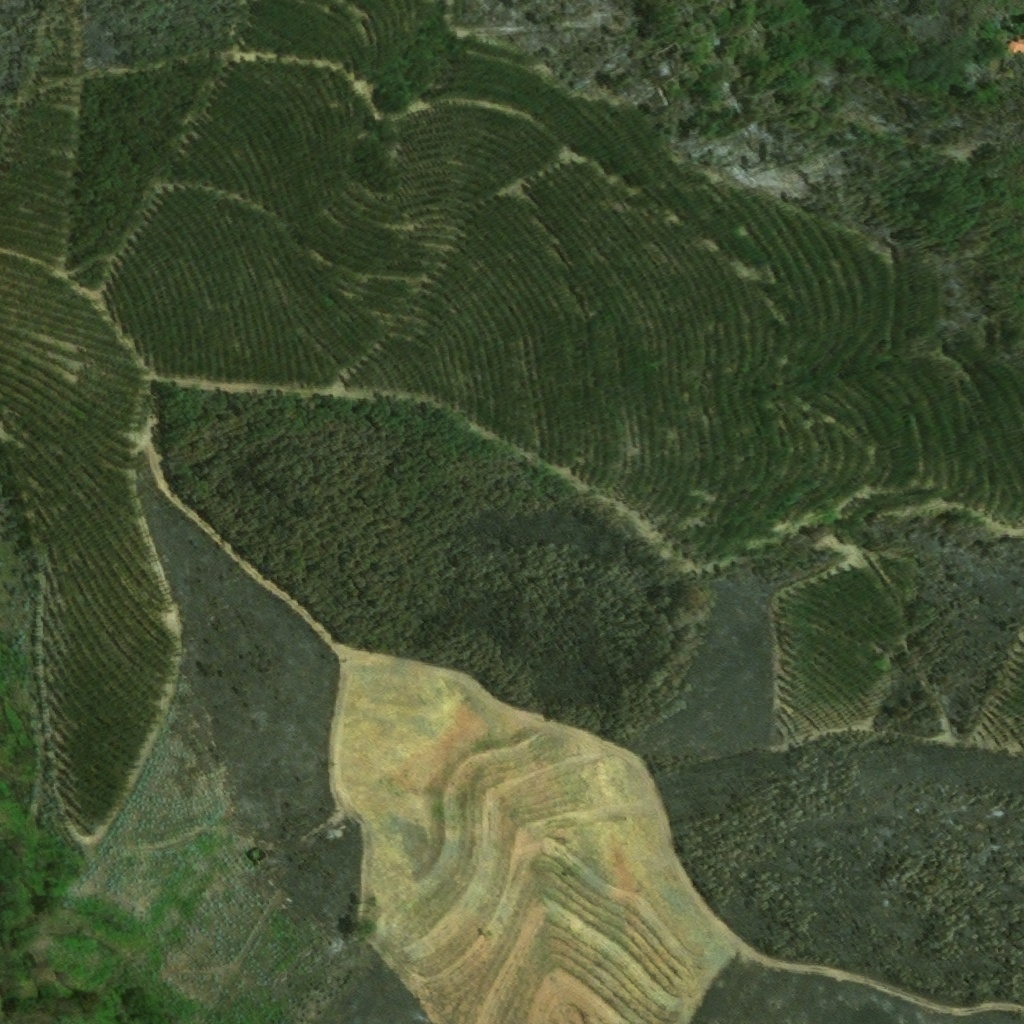0 no-damage: (1004, 39, 1023, 56)
4 un-classified: (953, 143, 964, 150)
